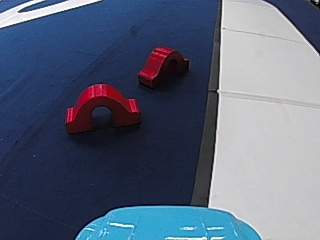bridge: (60, 80, 142, 131), (136, 43, 188, 90)
